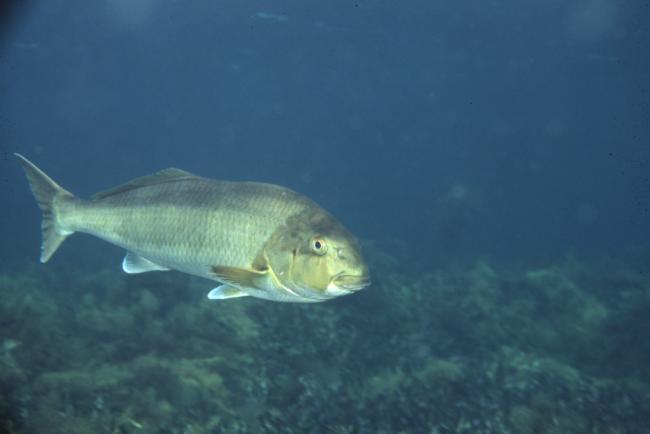fish: (13, 151, 371, 302)
